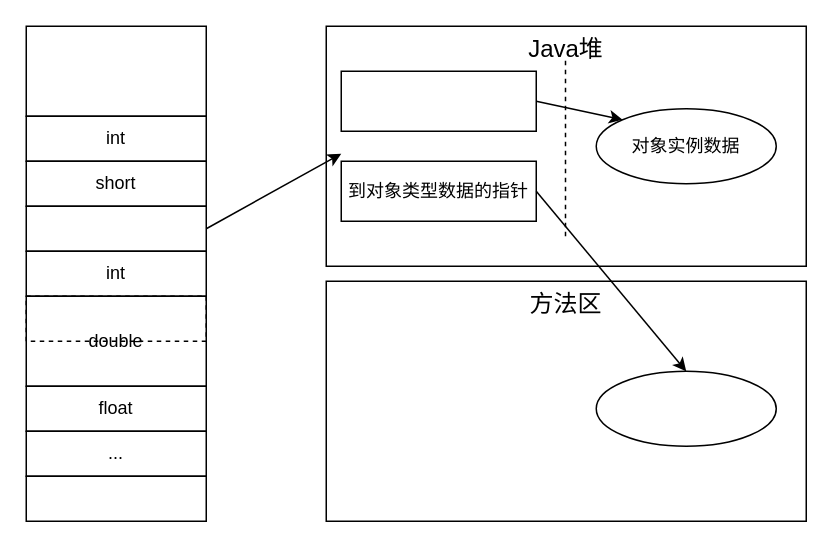
The diagram is 833 pixels wide and 548 high, and some of its shapes have lost their labels. The centre of each missing label's shape, as x and y in pixels:
Java栈 本地变量表: (x=115, y=70)
reference: (x=115, y=228)
到对象实例数据的指针: (x=438, y=100)
对象类型数据: (x=685, y=408)
